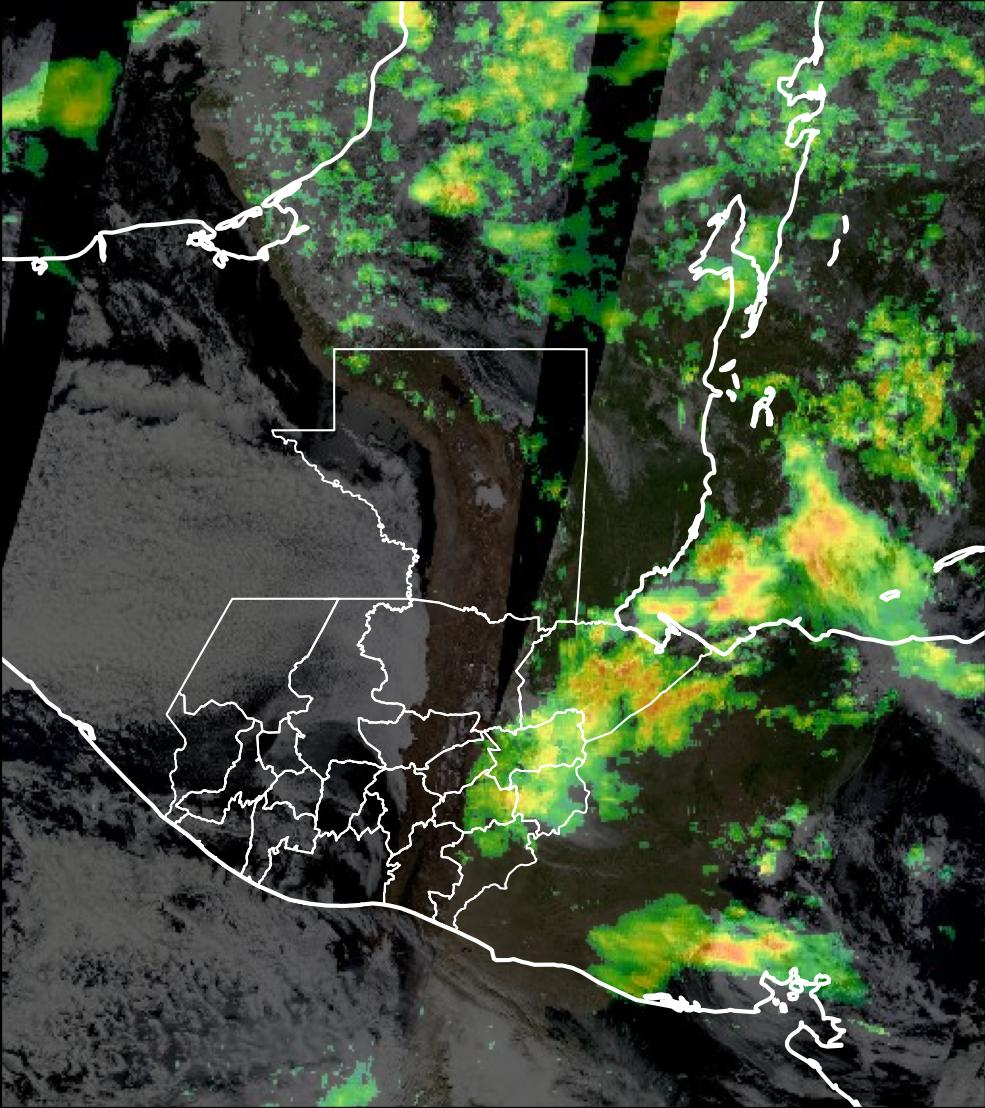precipitacion: (784, 493, 856, 587), (686, 932, 798, 973)
